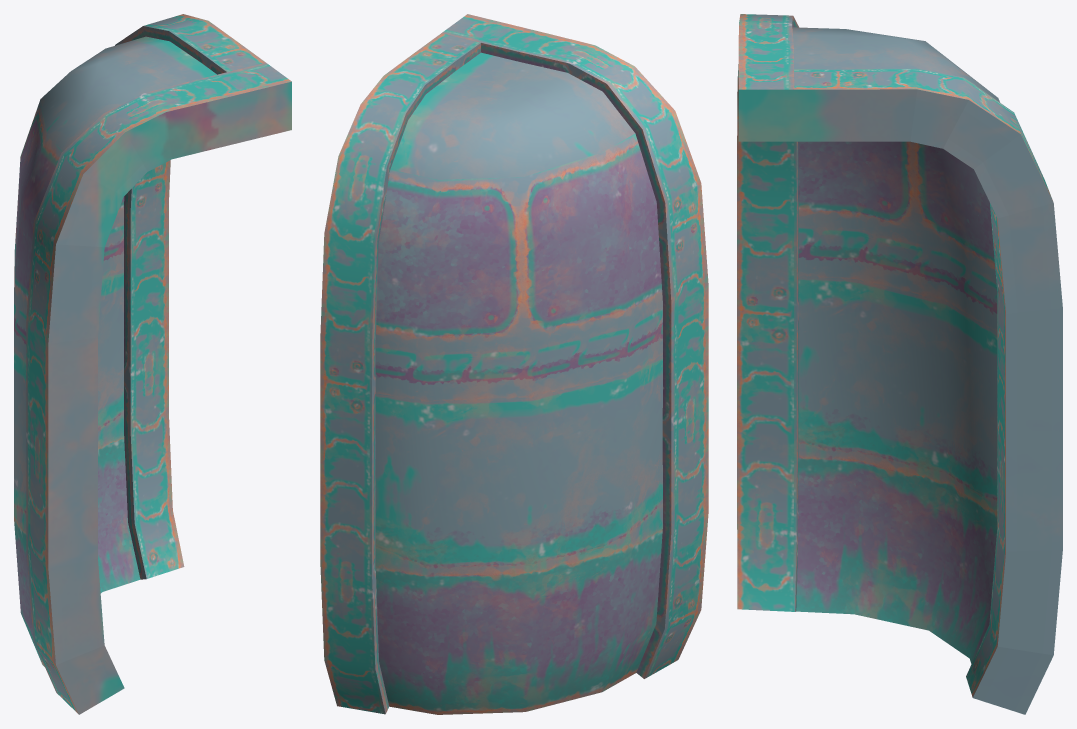
File: roof_corner.fbx
3 renders of one model, left to right at view 1: azimuth 30°, elevation 25°; view 2: azimuth 150°, elevation 25°; view 3: azimuth 270°, elevation 25°, orthographic. The views are drawn at different scales.
Visible parts, largest first — view 1: polySurface5; view 2: polySurface5; view 3: polySurface5.
Part boxes in pixels (box(x1,y1,x2,y2)): polySurface5: box(14, 14, 291, 714); polySurface5: box(320, 14, 708, 714); polySurface5: box(737, 14, 1062, 714).
Size of the model in its own units: 131 by 301 by 142.
1 material, 1 textured.
